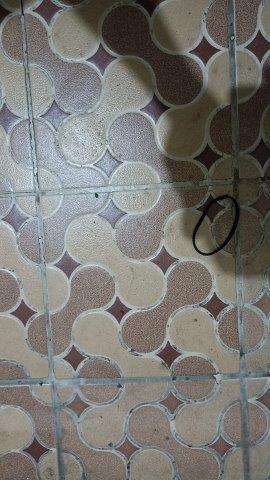karet: (193, 196, 240, 256)
